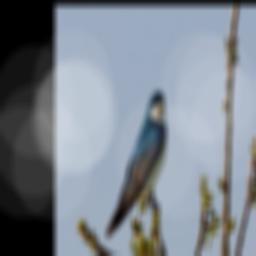Swallow: (102, 85, 171, 241)
